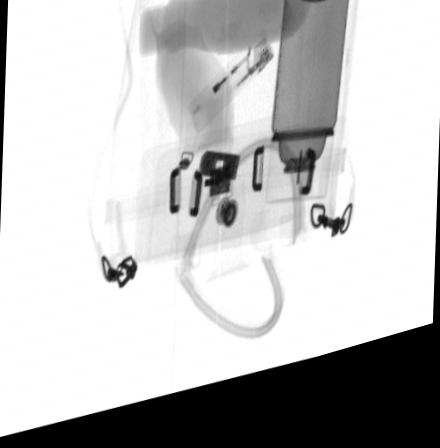Lighter: (187, 47, 273, 144)
Sprayer: (264, 0, 349, 218)
